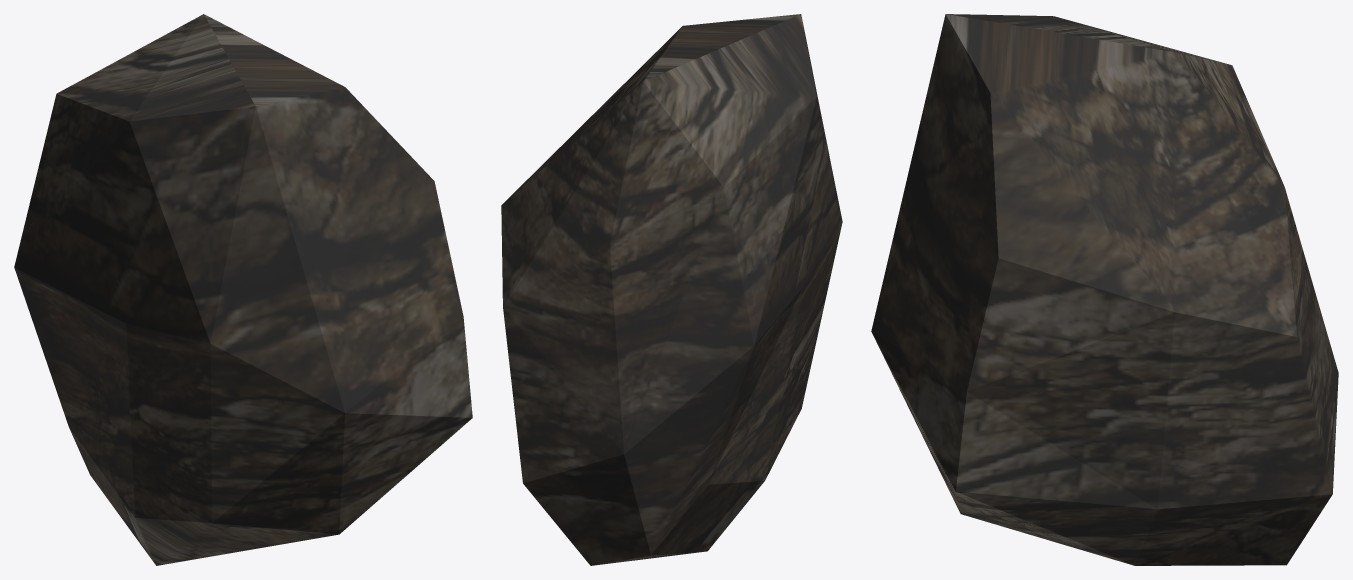
3 renders of one model, left to right at view 1: azimuth 30°, elevation 25°; view 2: azimuth 150°, elevation 25°; view 3: azimuth 270°, elevation 25°, orthographic. The views are drawn at different scales.
Parts seen in each view (by area): view 1: AsteroidA1; view 2: AsteroidA1; view 3: AsteroidA1.
Boxes of the visible parts, x1,y1,x2,y2 form: AsteroidA1: (14,14,472,565); AsteroidA1: (501,14,842,565); AsteroidA1: (871,14,1338,565).
Size of the model in its own units: 1.24 by 1.99 by 1.57.
Materials: 1 (1 with a texture image).
